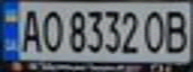2: (118, 7, 142, 55)
3: (84, 7, 106, 54), (103, 7, 124, 55)
8: (63, 7, 87, 54)
A: (15, 6, 45, 53)
B: (160, 7, 193, 55)
O: (142, 7, 169, 55), (36, 7, 63, 54)
